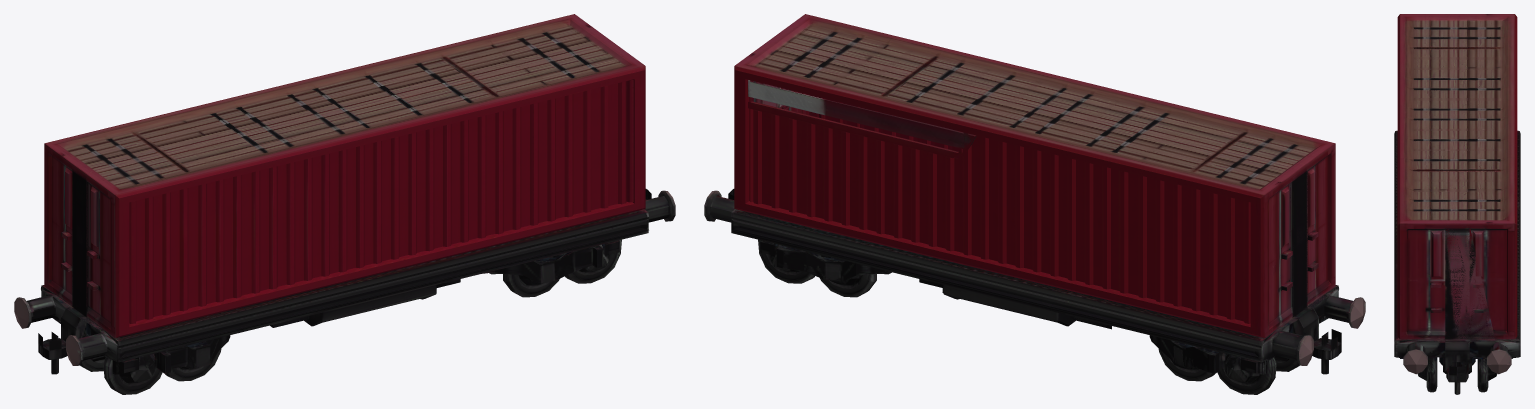
The model's file is RedWagon.fbx.
3 views of the same model, side by side, from view 1: azimuth 30°, elevation 25°; view 2: azimuth 150°, elevation 25°; view 3: azimuth 270°, elevation 25° (orthographic). The views are drawn at different scales.
Visible parts, largest first — view 1: temp; view 2: temp; view 3: temp.
Boxes of the visible parts, box(x1,y1,x2,y2) form: temp: box(14, 14, 675, 394); temp: box(704, 14, 1365, 394); temp: box(1394, 14, 1520, 394).
Size of the model in its own units: 191 by 66.93 by 42.66.
1 material, 1 textured.
